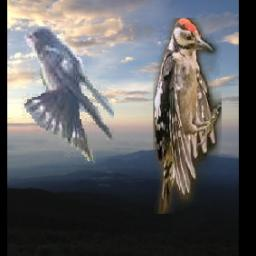Swallow: (22, 26, 114, 163)
Woodpecker: (153, 18, 222, 214)
